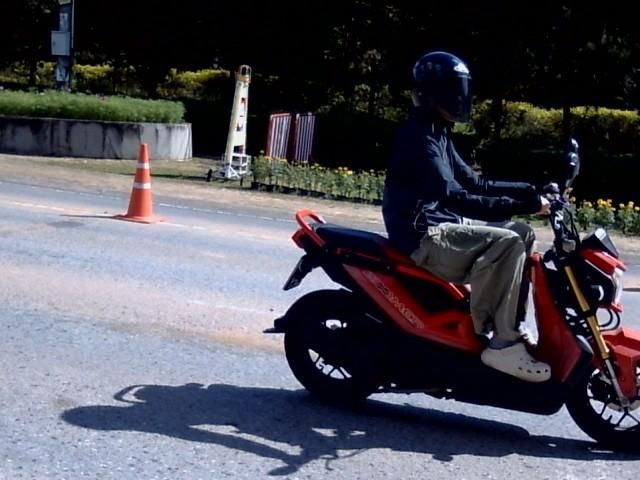helmet: (411, 49, 472, 123)
motor: (264, 140, 639, 449)
person: (382, 51, 551, 381)
